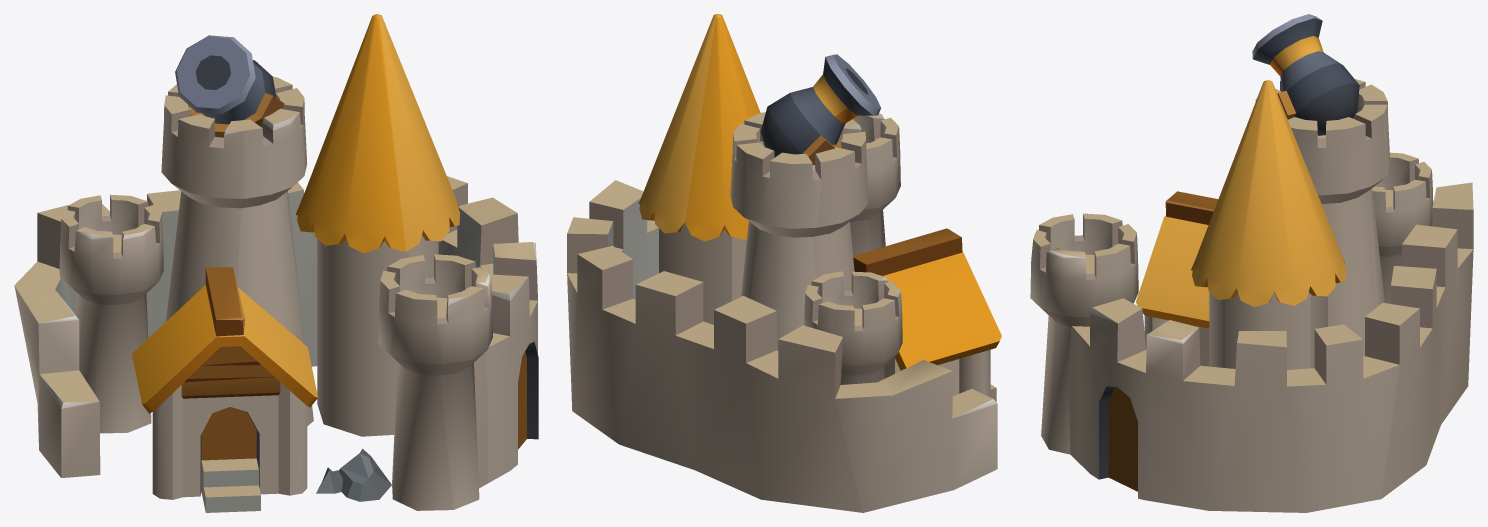
Rendered from Land_Reg_L_Village_A.fbx.
3 renders of one model, left to right at view 1: azimuth 30°, elevation 25°; view 2: azimuth 150°, elevation 25°; view 3: azimuth 270°, elevation 25°, orthographic. The views are drawn at different scales.
Parts seen in each view (by area): view 1: Color_04, Color_03, Color_02, Color_01; view 2: Color_04, Color_01, Color_03, Color_02; view 3: Color_04, Color_02, Color_01, Color_03.
Boxes of the visible parts, left/top/right/bottom form: Color_04: left=14, top=176, right=538, bottom=510; Color_03: left=59, top=194, right=317, bottom=512; Color_02: left=296, top=14, right=459, bottom=436; Color_01: left=161, top=35, right=313, bottom=425; Color_04: left=567, top=113, right=997, bottom=512; Color_01: left=730, top=54, right=880, bottom=350; Color_03: left=804, top=228, right=1001, bottom=401; Color_02: left=638, top=14, right=760, bottom=324; Color_04: left=1030, top=182, right=1473, bottom=512; Color_02: left=1191, top=80, right=1346, bottom=369; Color_01: left=1252, top=14, right=1390, bottom=356; Color_03: left=1136, top=152, right=1433, bottom=366.
Bounding box in the file's own units: 41.57 × 36.64 × 39.15.
